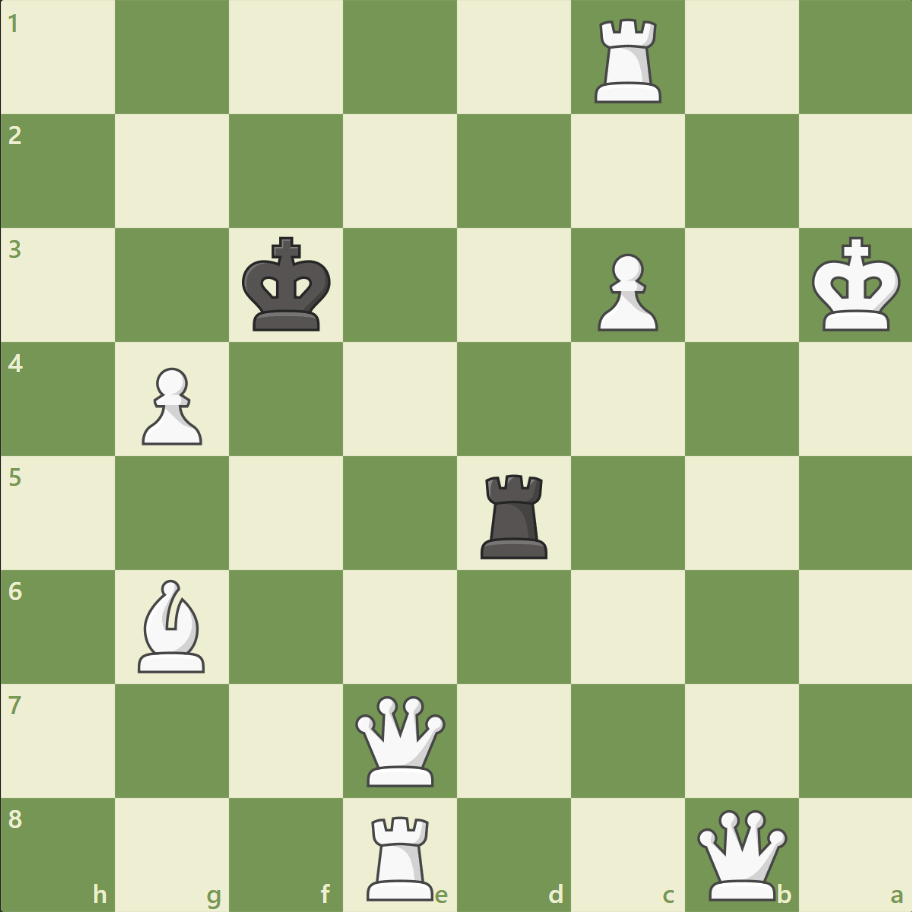B: (131, 574, 215, 676)
K: (806, 231, 906, 339)
P: (133, 359, 208, 450), (588, 246, 662, 337)
Q: (691, 804, 790, 903), (351, 690, 450, 789)
R: (587, 12, 670, 109), (360, 806, 442, 904)
k: (238, 231, 338, 339)
r: (473, 466, 556, 563)
